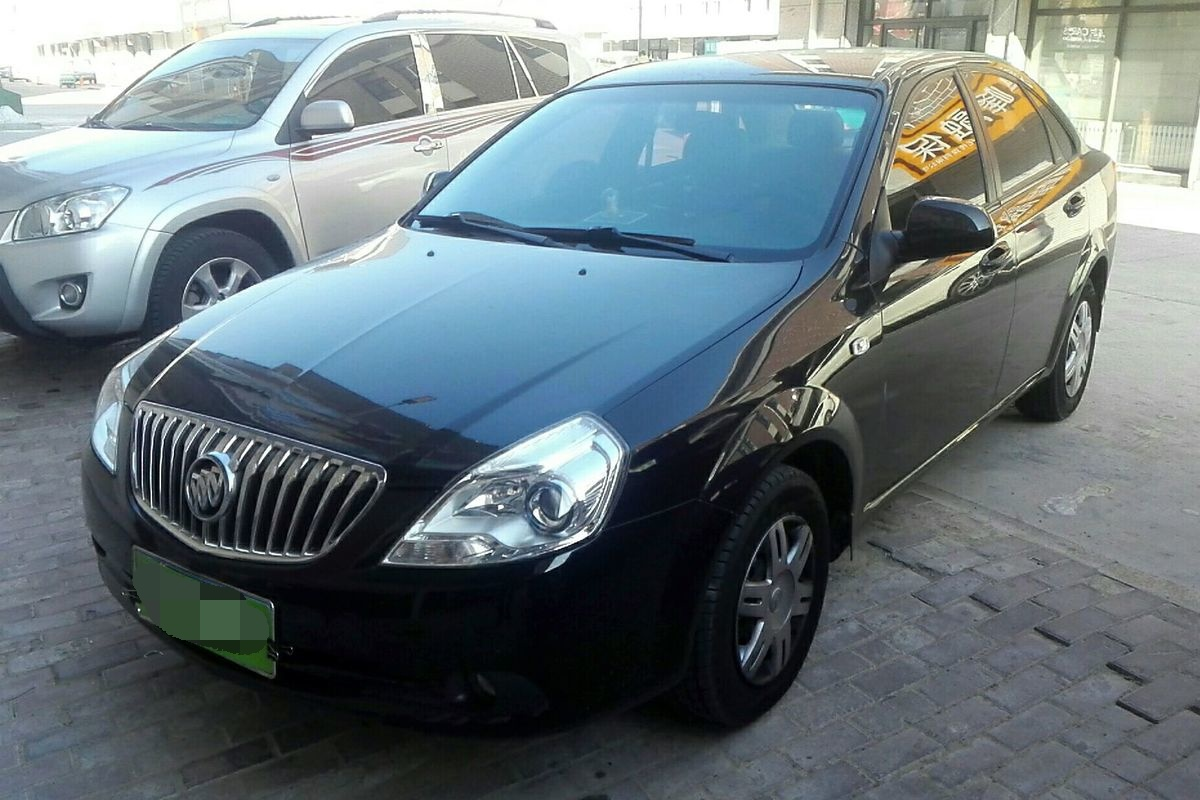family sedan: (92, 76, 1109, 718)
